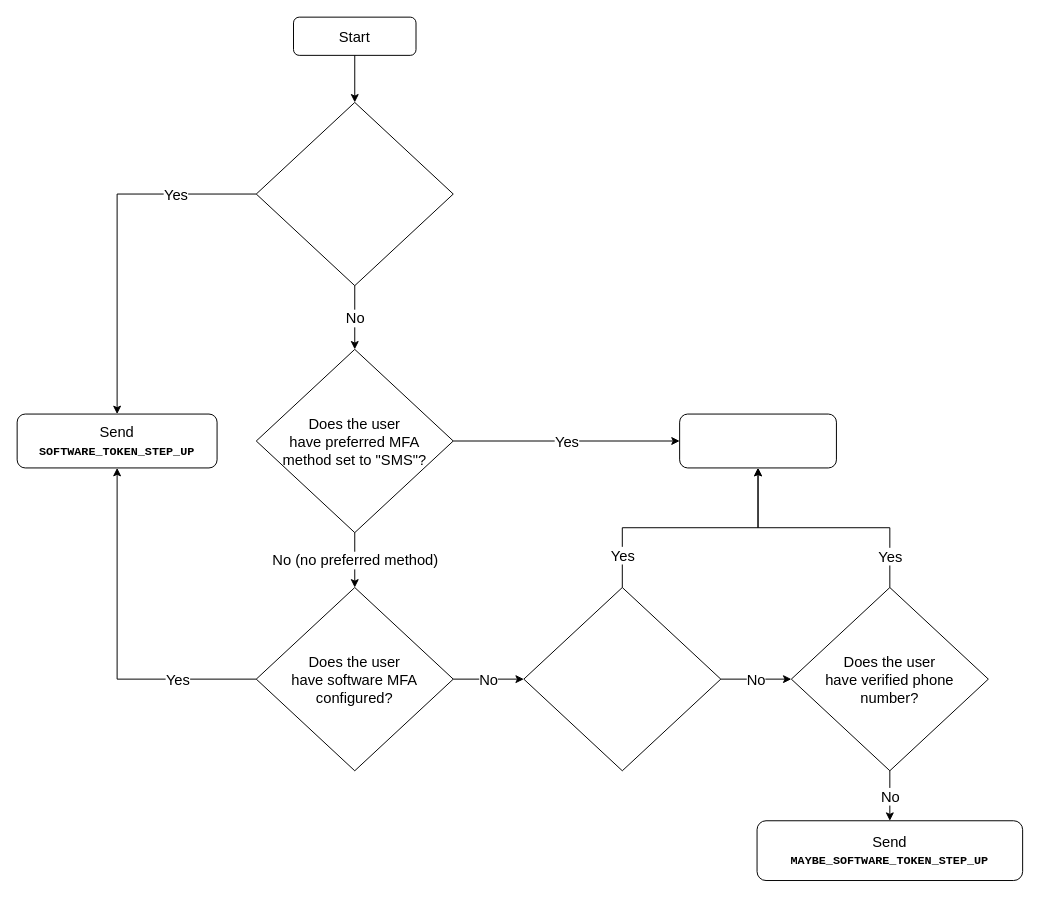
Some shapes in this 1040 by 898 pixel diagram are drawn without their labels. Each missing label, with the centre of its shape:
Does the user have preferred MFA method set to "Software Token"?: [354,193]
Does the user have SMS MFA configured?: [622,679]
Send SMS_STEP_UP: [757,440]
